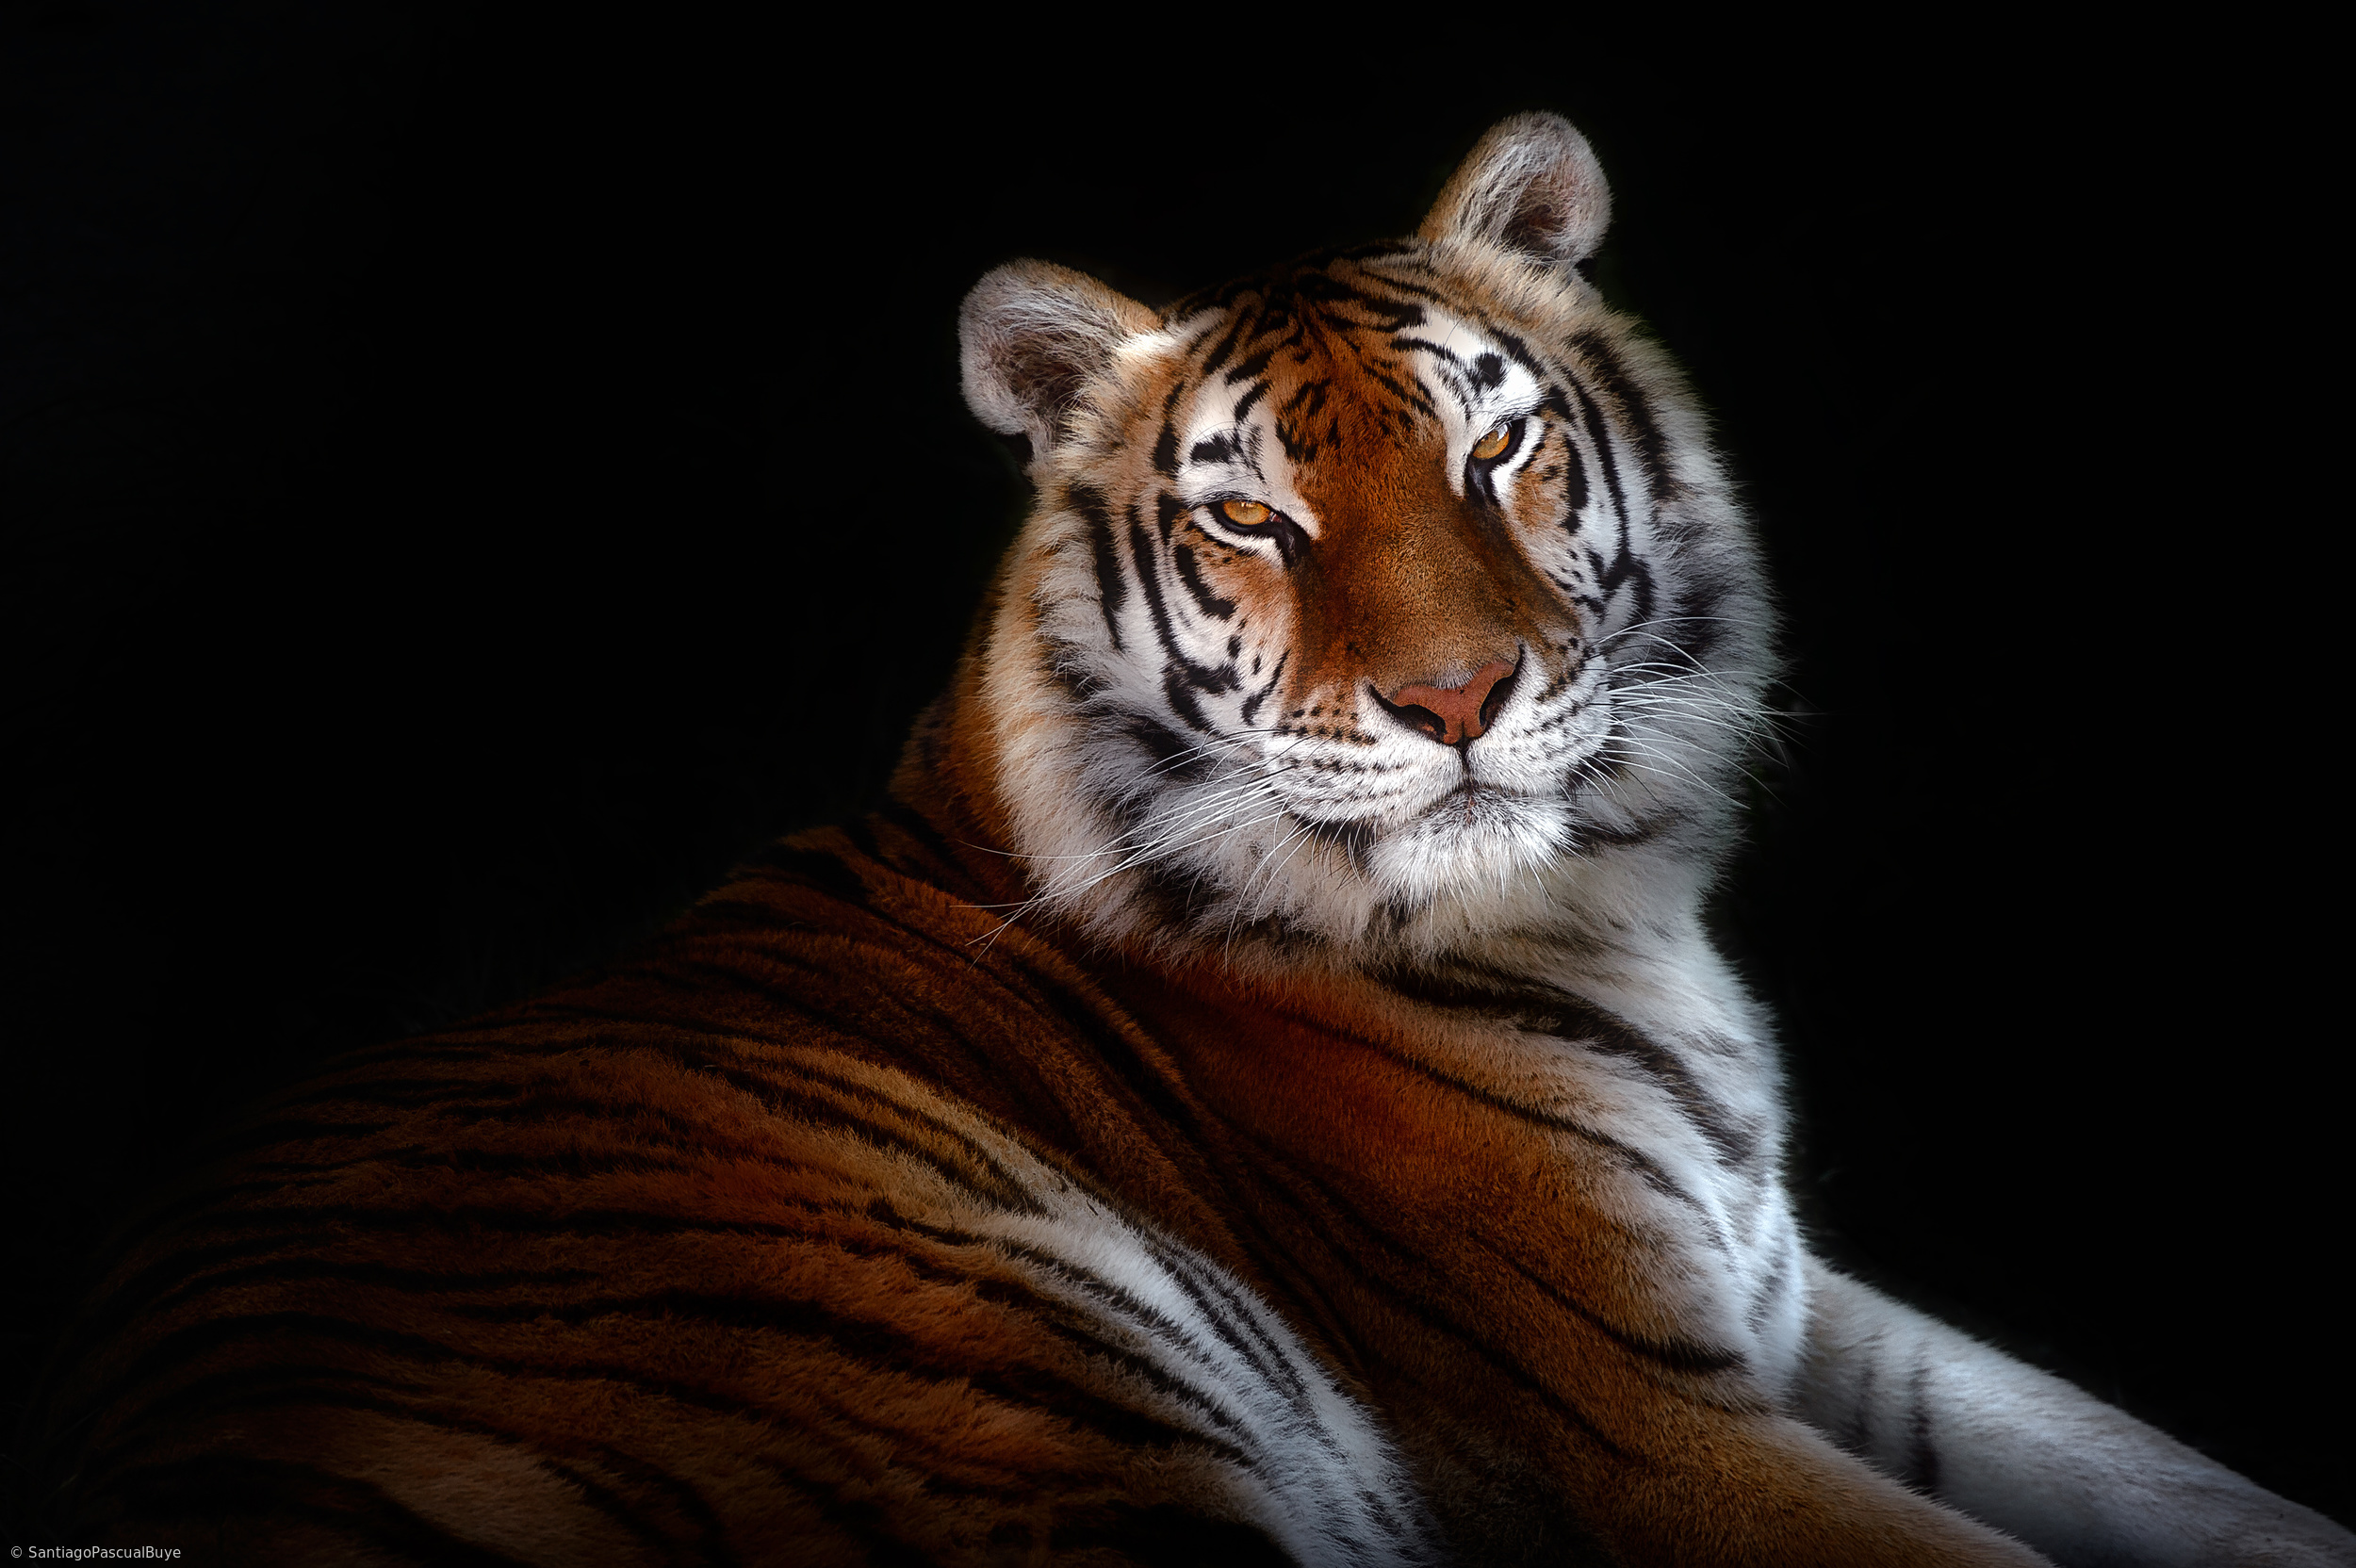tiger: (394, 126, 2130, 1482)
